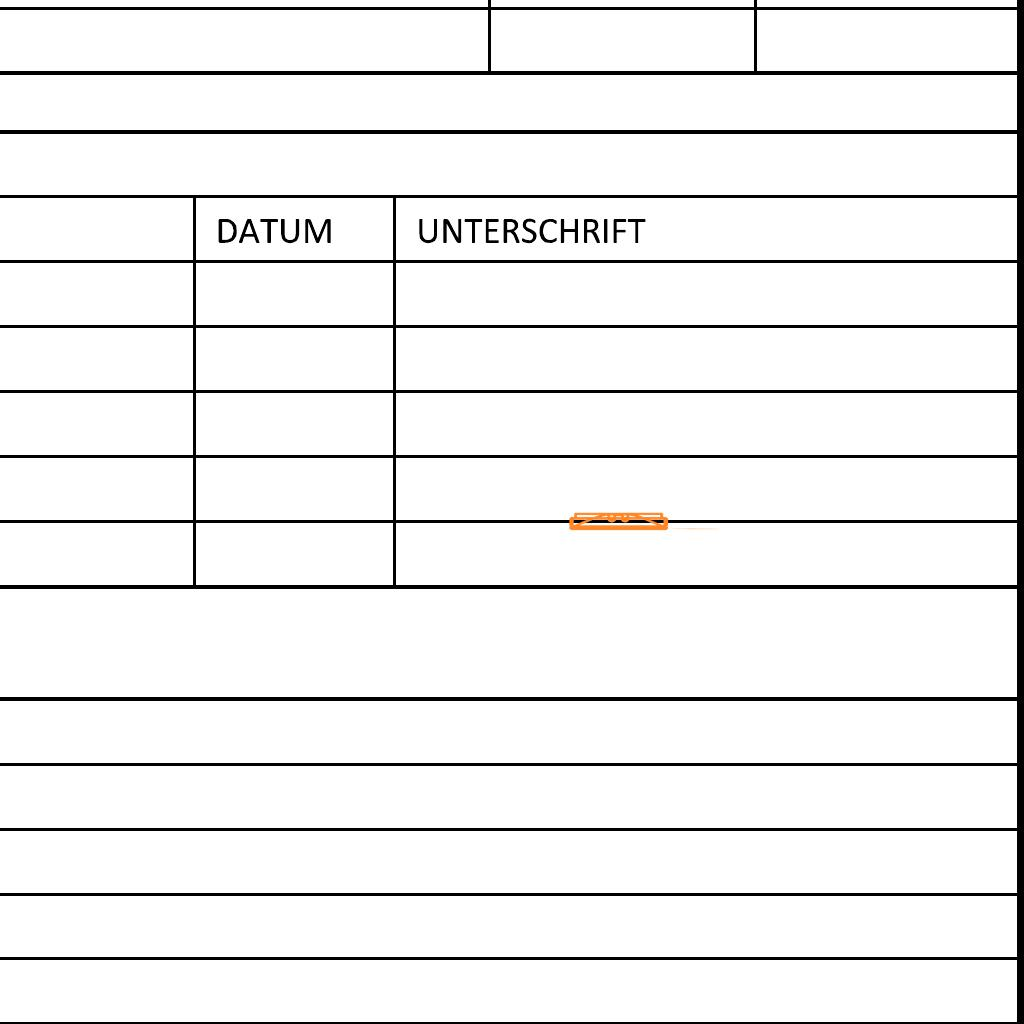Sicherheitsleuchte_Wandeinbau: (564, 508, 723, 533)
